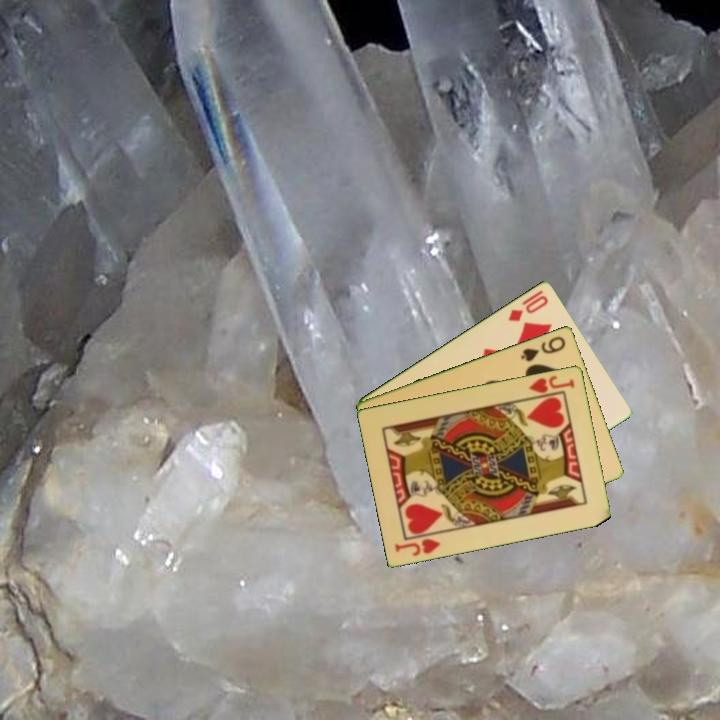10d: (505, 291, 551, 324)
9s: (517, 332, 569, 364)
Jh: (524, 372, 578, 401), (392, 535, 444, 559)
